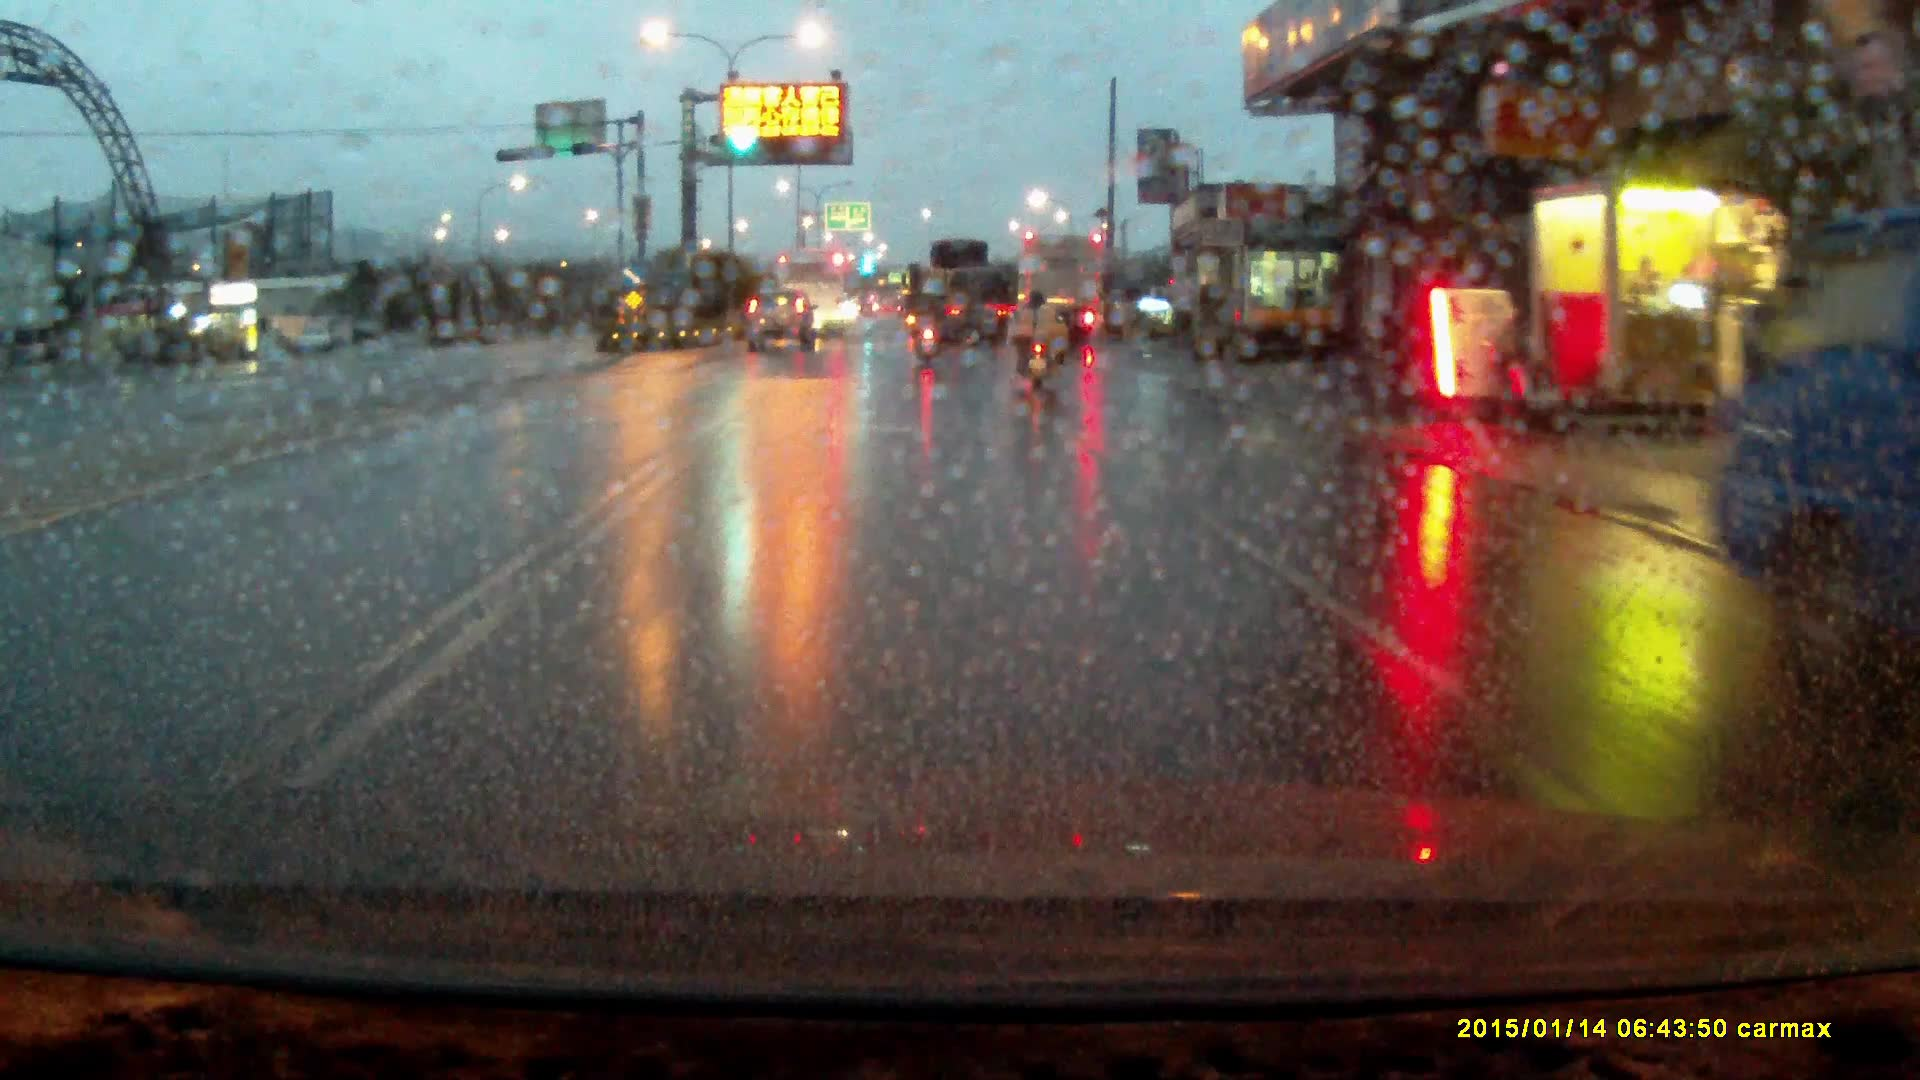rider: (1018, 287, 1058, 394), (913, 284, 942, 363)
vehicle: (917, 240, 1021, 347), (1021, 236, 1105, 350), (776, 249, 849, 333), (746, 282, 816, 346)
